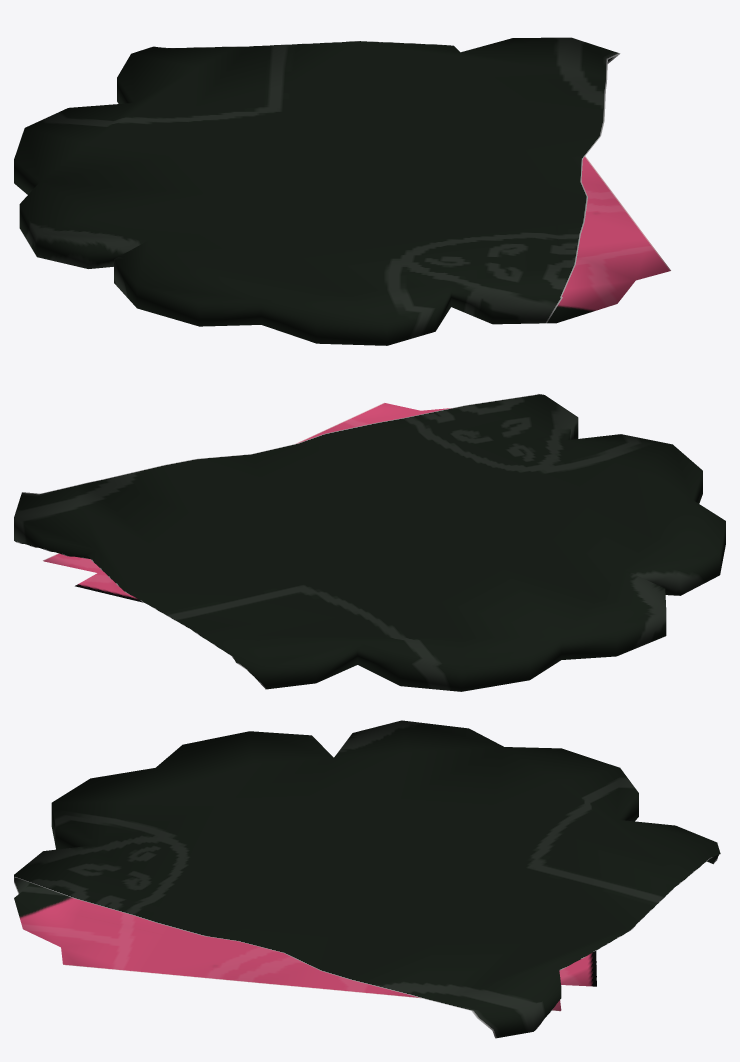
Rendered from DHP_MOD_Waffle.fbx.
3 views of the same model, one above another, from view 1: azimuth 30°, elevation 25°; view 2: azimuth 150°, elevation 25°; view 3: azimuth 270°, elevation 25° (orthographic). The views are drawn at different scales.
Visible parts, largest first — view 1: DHP_MOD_Waffle; view 2: DHP_MOD_Waffle; view 3: DHP_MOD_Waffle.
Boxes of the visible parts, x1,y1,x2,y2 form: DHP_MOD_Waffle: (14, 37, 670, 345); DHP_MOD_Waffle: (14, 394, 725, 691); DHP_MOD_Waffle: (14, 720, 720, 1038).
Bounding box in the file's own units: 0.6228 × 0.0223 × 0.6168.
